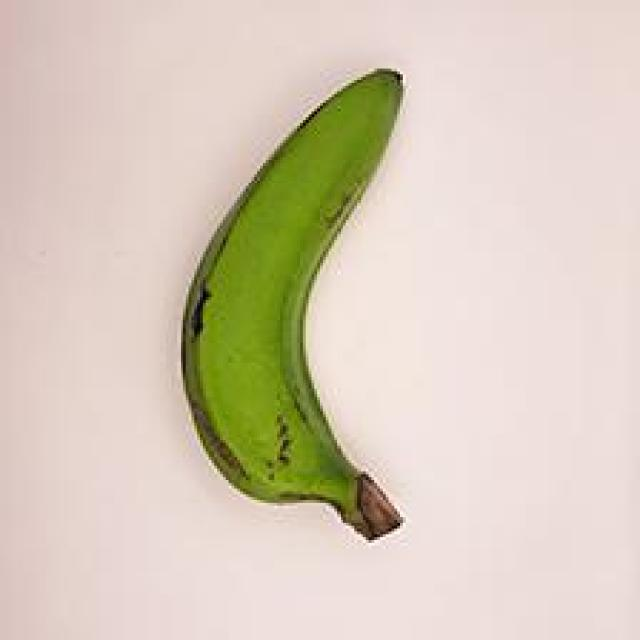Raw: (106, 46, 478, 567)
